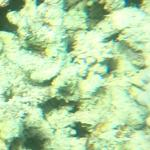dead: (1, 1, 144, 147)
